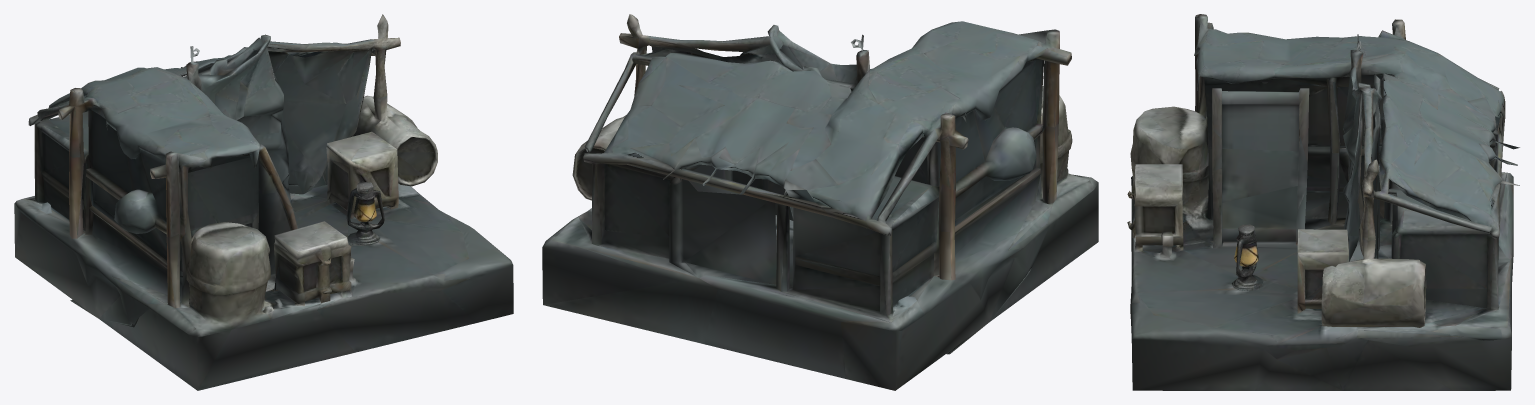
Rendered from barrels.glb.
3 views of the same model, side by side, from view 1: azimuth 30°, elevation 25°; view 2: azimuth 150°, elevation 25°; view 3: azimuth 270°, elevation 25° (orthographic). The views are drawn at different scales.
Size of the model in its own units: 1.9 by 1.3 by 1.81.
Materials: 1 (1 with a texture image).
